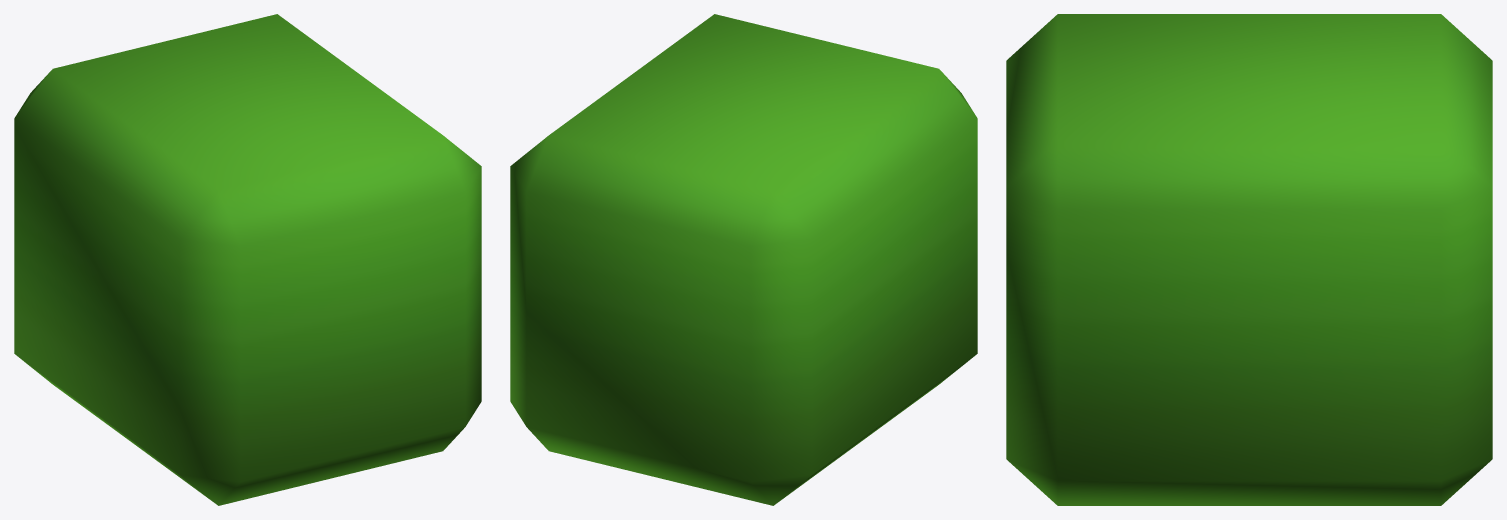
The model's file is Bush_1_C_3.fbx.
3 renders of one model, left to right at view 1: azimuth 30°, elevation 25°; view 2: azimuth 150°, elevation 25°; view 3: azimuth 270°, elevation 25°, orthographic. The views are drawn at different scales.
Visible parts, largest first — view 1: Bush_1_C_3; view 2: Bush_1_C_3; view 3: Bush_1_C_3.
Part boxes in pixels (x1=…): Bush_1_C_3: x1=14, y1=14, x2=481, y2=505; Bush_1_C_3: x1=510, y1=14, x2=977, y2=505; Bush_1_C_3: x1=1006, y1=14, x2=1492, y2=505.
Size of the model in its own units: 61.94 by 61.94 by 74.78.
